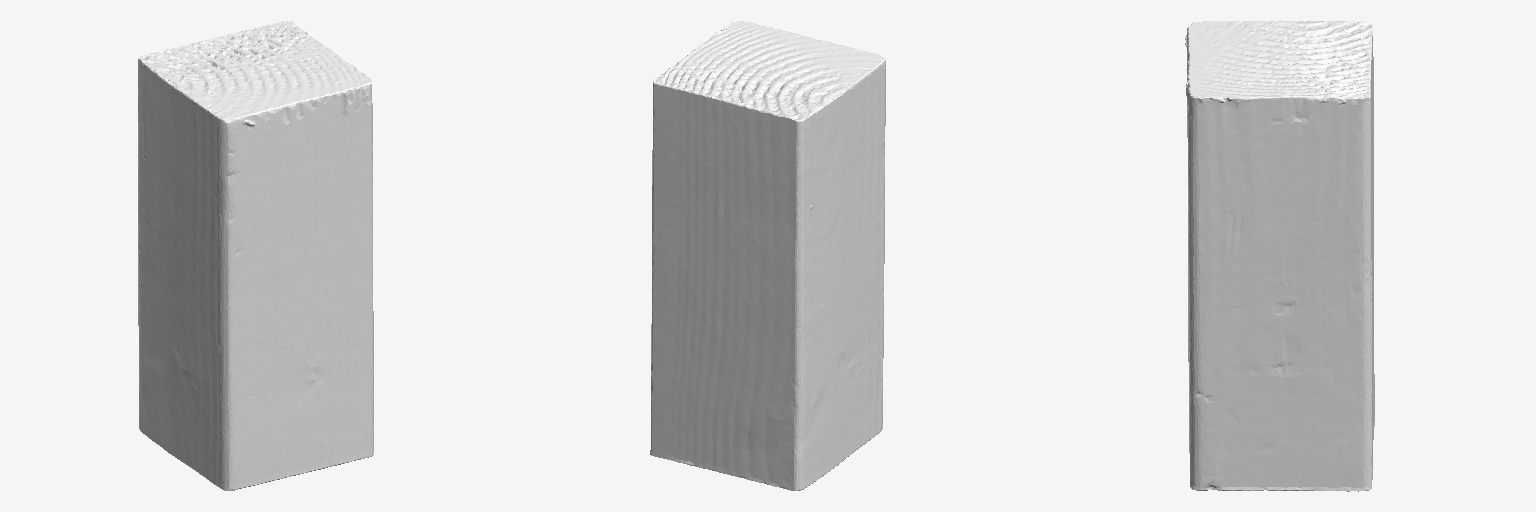
The robot description file, URDF, robot "c_lego_duplo":
<robot name="c_lego_duplo">
	<link name="base_link">
		<visual>
			<origin xyz="0.013173349121726697 0.022850899210760046 -0.012672119612308666" rpy="0.0 0.0 0.0" />
			<geometry>
				<mesh filename="073-c_lego_duplo/google_16k/textured.obj" scale="1 1 1" />
			</geometry>
			<material name="texture">
				<color rgba="1.0 1.0 1.0 1.0" />
			</material>
		</visual>
		<collision>
			<origin xyz="0.013173349121726697 0.022850899210760046 -0.012672119612308666" rpy="0.0 0.0 0.0" />
			<geometry>
				<mesh filename="073-c_lego_duplo/google_16k/textured_vhacd.obj" scale="1 1 1" />
			</geometry>
		</collision>
		<inertial>
			<mass value="0.0372" />
			<inertia ixx="1e-3" ixy="0.0" ixz="0.0" iyy="1e-3" iyz="0.0" izz="1e-3" />
		</inertial>
	</link>
</robot>

--- What the picture shows (computed from the rendered views, not written in the file) ---
Views: 3 orthographic renders of the robot side by side, from view 1: azimuth 30°, elevation 25°; view 2: azimuth 150°, elevation 25°; view 3: azimuth 270°, elevation 25°.
Robot: c_lego_duplo — 1 links, 0 joints (none); root link base_link; default pose: all joints at 0.
Visible links, largest first — view 1: base_link; view 2: base_link; view 3: base_link.
Link boxes in pixels (bbox=[...]): base_link: bbox=[138, 21, 373, 490]; base_link: bbox=[650, 21, 885, 490]; base_link: bbox=[1185, 20, 1374, 491].
Size in the robot's own frame: 0.0906 by 0.0899 by 0.206 metres.
1 mesh visuals loaded from 1 distinct referenced files (1 OBJ).